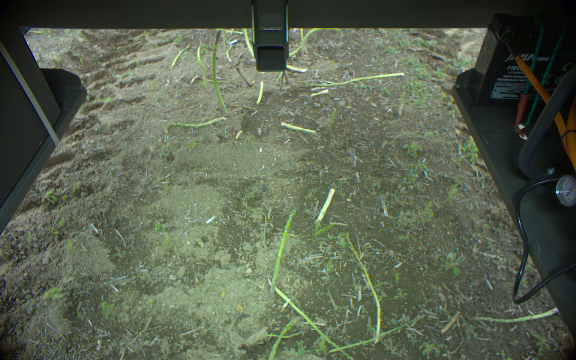aspa: (266, 205, 301, 297), (210, 30, 234, 116), (264, 312, 304, 360), (291, 28, 342, 58), (163, 114, 228, 130), (225, 309, 246, 334), (295, 26, 309, 46), (274, 71, 291, 87)
